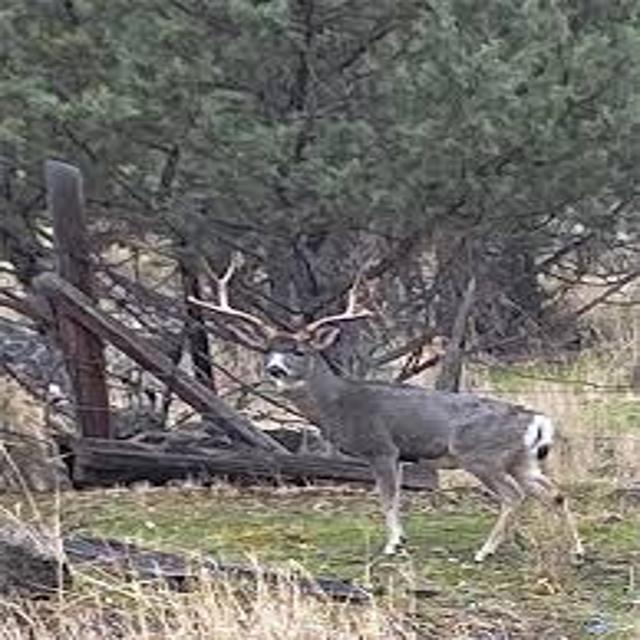deer: (169, 239, 611, 590)
